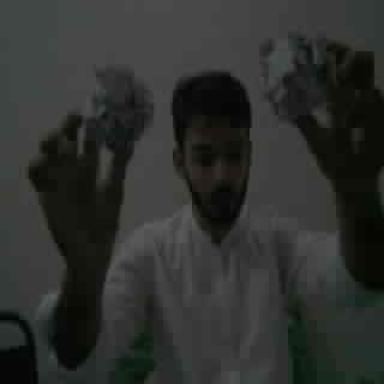paper: (262, 35, 328, 118), (85, 69, 152, 149), (347, 53, 372, 88)
